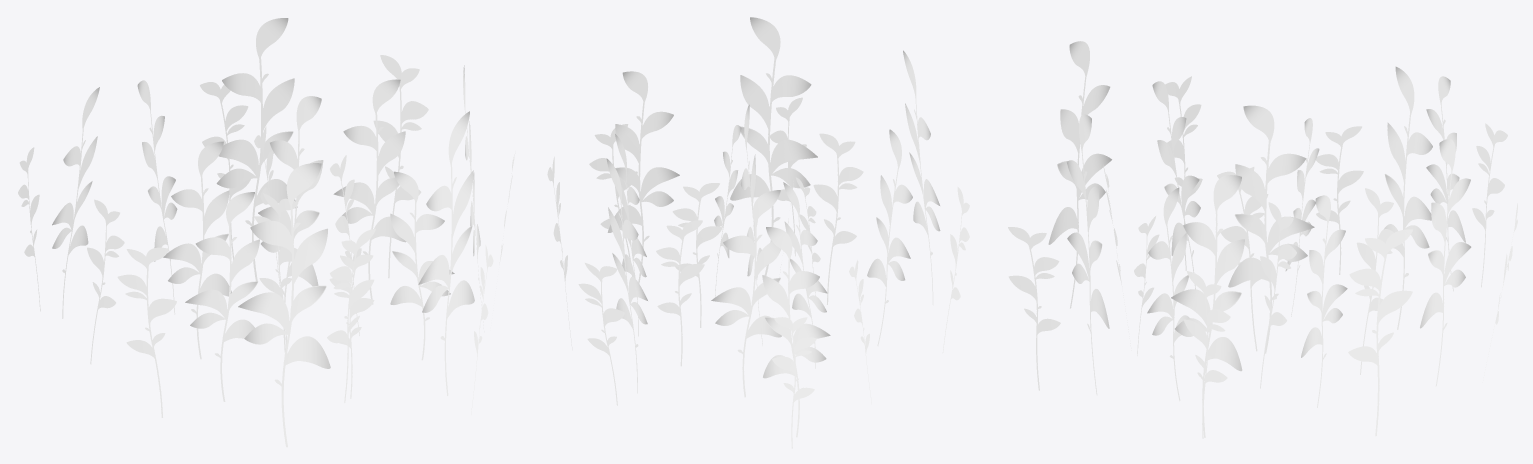
File: Grass_2.fbx
3 views of the same model, side by side, from view 1: azimuth 30°, elevation 25°; view 2: azimuth 150°, elevation 25°; view 3: azimuth 270°, elevation 25° (orthographic). The views are drawn at different scales.
Visible parts, largest first — view 1: Grass_2; view 2: Grass_2; view 3: Grass_2.
Part boxes in pixels (<box>): Grass_2: <box>18,18,515,447</box>; Grass_2: <box>547,17,969,448</box>; Grass_2: <box>1008,41,1517,438</box>.
Bounding box in the file's own units: 101 × 66.01 × 105.
